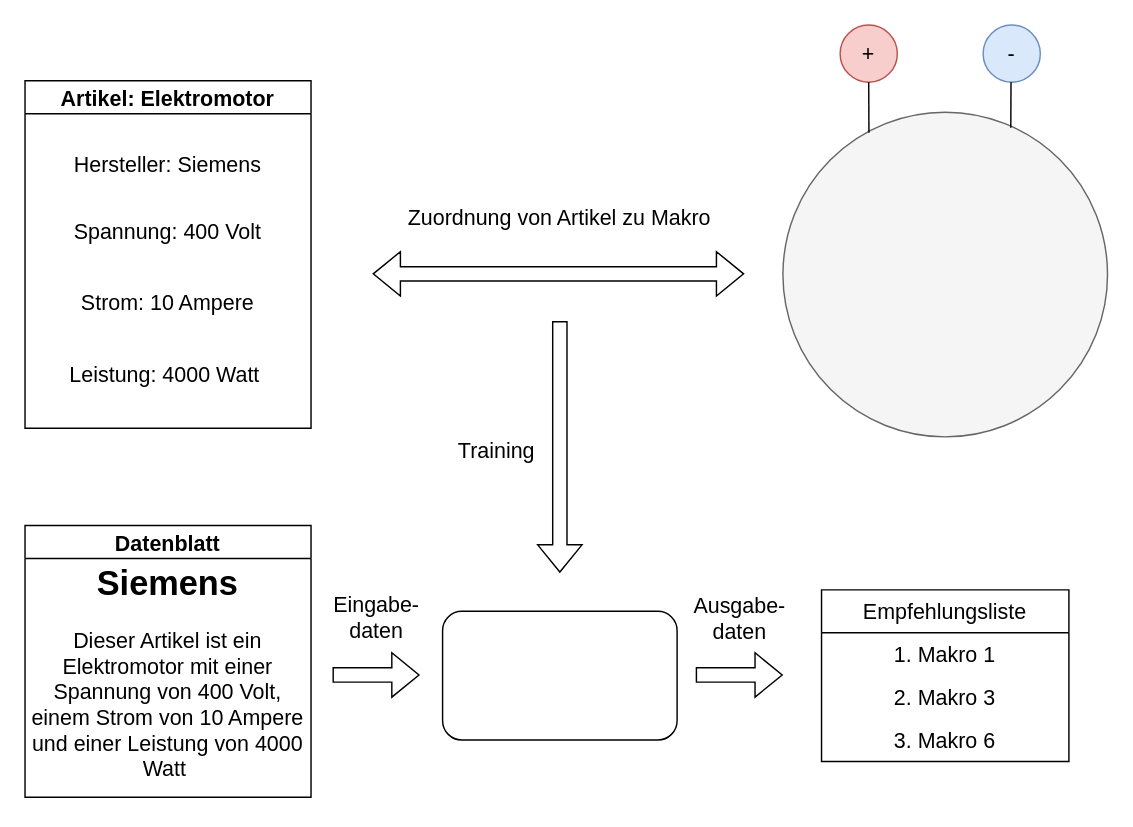
This 1133x827 diagram has some shape labels left out. Here are the shapes that lost their labels. From the top down, the centre of each, then its label:
point (944, 274): Elektromotor
point (559, 675): KI Empfehlungssystem
